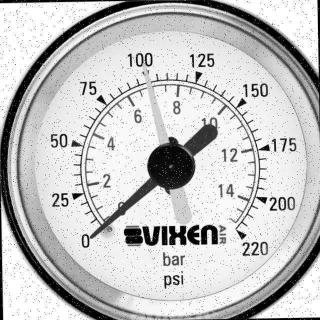gauge: (0, 0, 320, 320), (146, 142, 197, 190), (78, 212, 114, 254), (227, 222, 259, 252), (87, 226, 103, 242), (139, 64, 153, 82)
